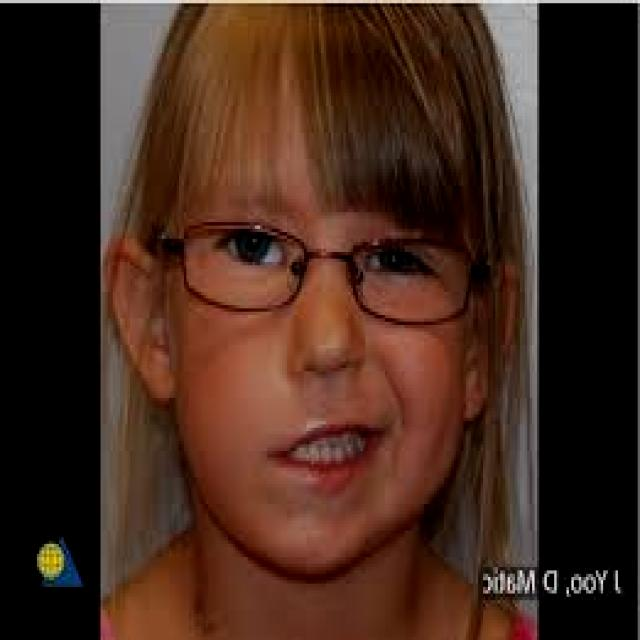stroke_face: (145, 0, 508, 577)
